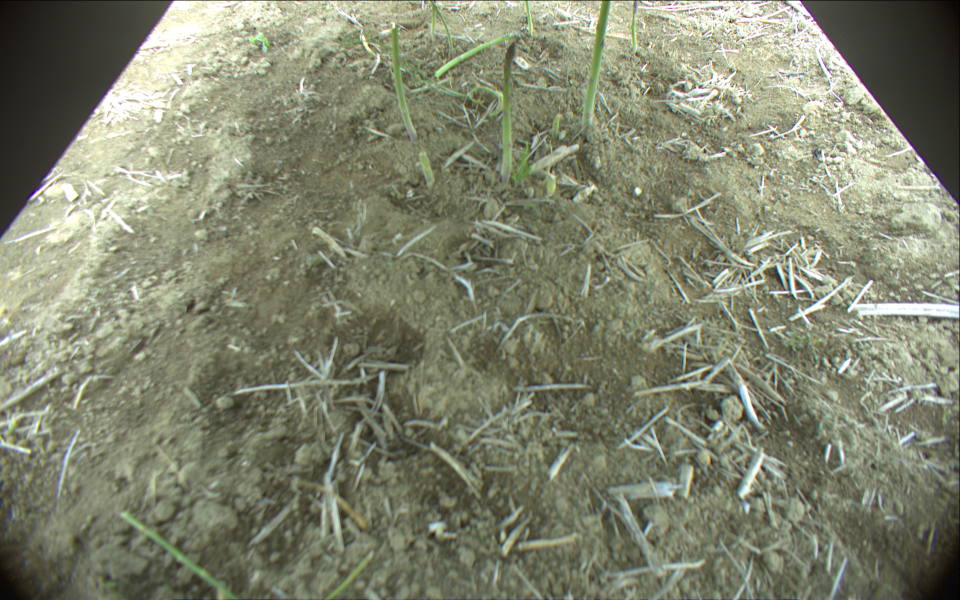aspa: (117, 514, 244, 600), (433, 31, 517, 80), (582, 1, 611, 132), (389, 22, 418, 142), (316, 551, 375, 600), (500, 44, 519, 182), (431, 1, 455, 57), (418, 143, 433, 189), (629, 1, 640, 54), (521, 1, 536, 36), (544, 170, 560, 197), (429, 1, 438, 37)
